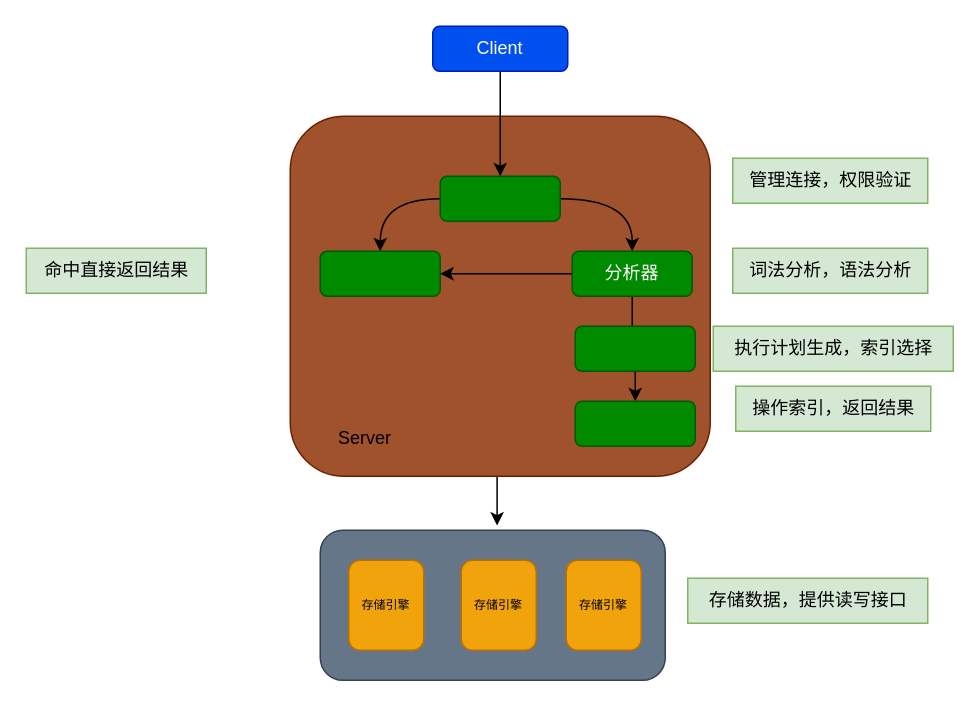
Some shapes in this 980 by 707 pixel diagram are drawn without their labels. The shapes that lost their labels are listed below. From the top down, each one's centre as x and y in pixels, then its label:
At point 499,198: "连接器".
At point 379,273: "查询缓存".
At point 634,348: "优化器".
At point 634,423: "执行器".
